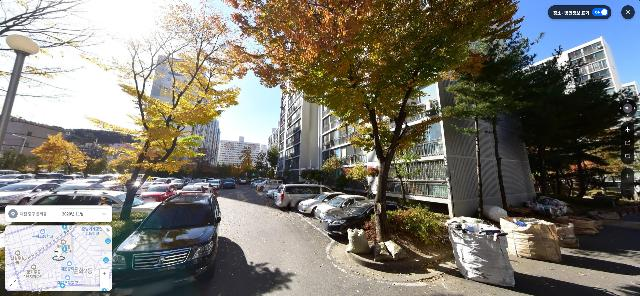ginkgo: (93, 1, 251, 224), (29, 132, 83, 175)
other: (227, 0, 526, 242), (493, 44, 640, 202), (442, 31, 546, 220)
